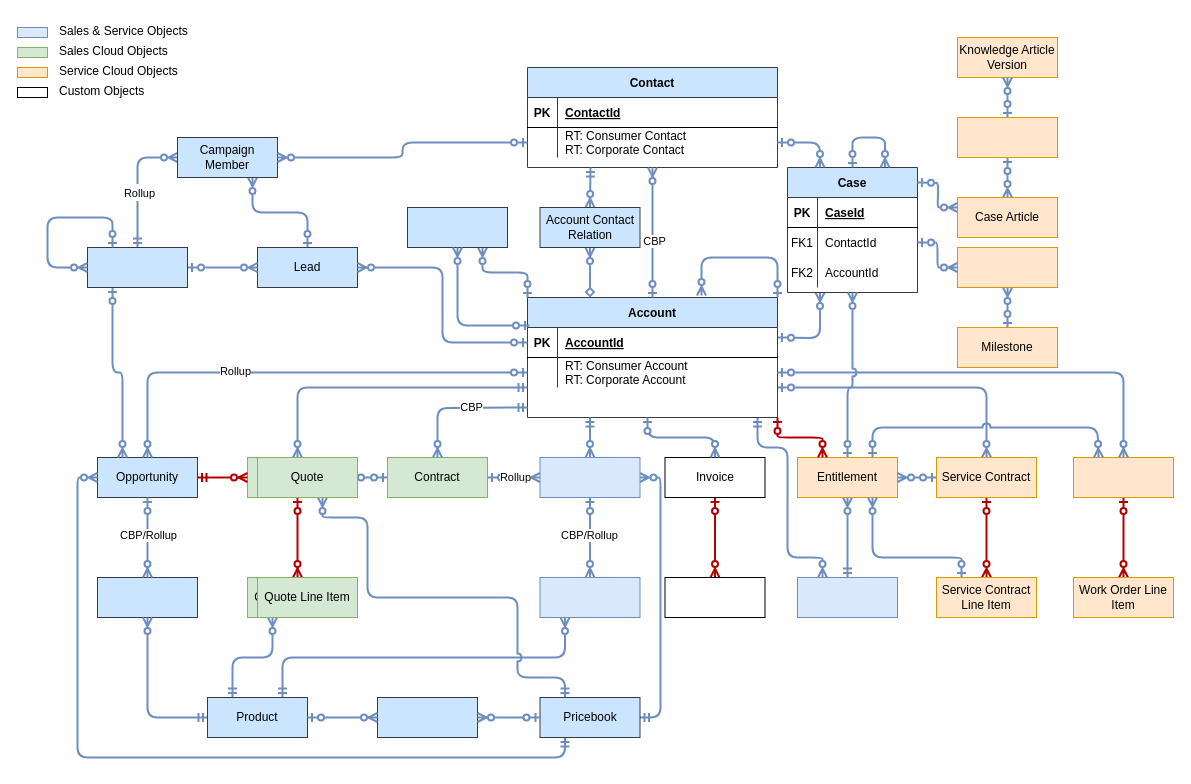
This 1191x784 diagram has some shape labels left out. The box of each missing label's shape, as (x1, y1, x2, y2) in pixels:
Account Relationship: (406, 206, 508, 248)
Asset: (796, 576, 898, 618)
Campaign: (86, 246, 188, 288)
Case Milestone: (956, 246, 1058, 288)
Invoice Line Item: (664, 576, 765, 618)
Knowledge Article: (956, 116, 1058, 158)
Opportunity Product: (96, 576, 198, 618)
Order: (539, 456, 640, 498)
Order Product: (539, 576, 640, 618)
Pricebook Entry: (376, 696, 478, 738)
Work Order: (1072, 456, 1174, 498)
